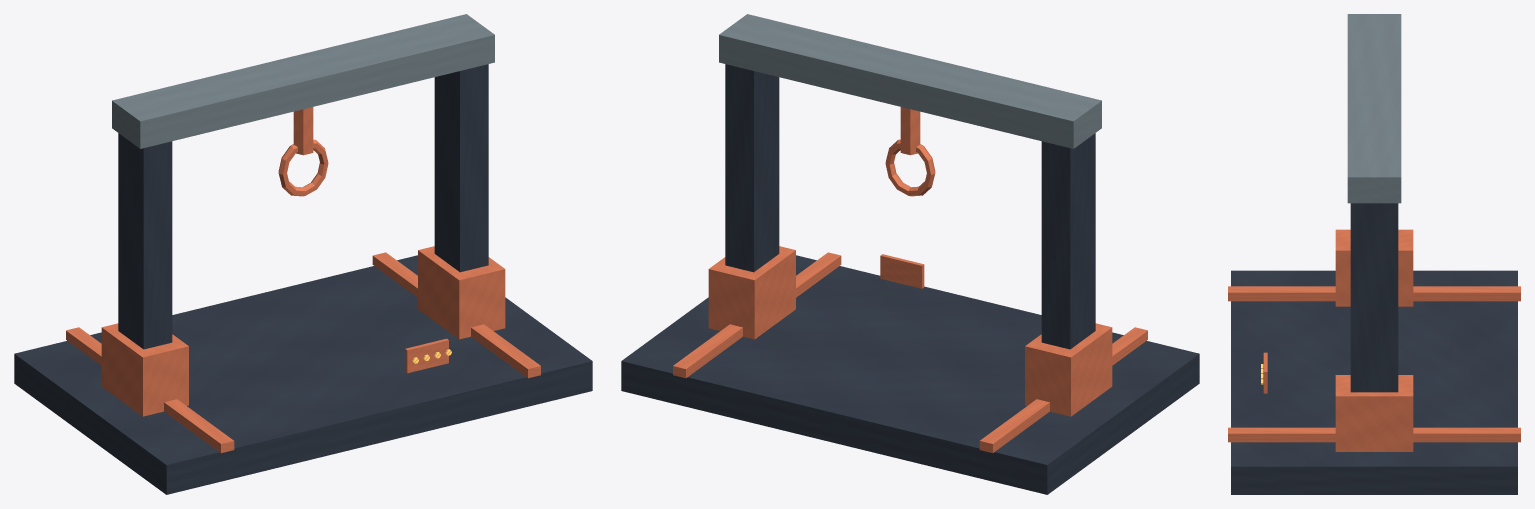
Rendered from atlas100-s027-a06.glb.
The picture shows the model from 3 angles, left to right: view 1: azimuth 30°, elevation 25°; view 2: azimuth 150°, elevation 25°; view 3: azimuth 270°, elevation 25°; orthographic projection. The views are drawn at different scales.
Visible parts, largest first — view 1: atlas100-s027-a06:part-000, atlas100-s027-a06:part-007, atlas100-s027-a06:part-003, atlas100-s027-a06:part-005, atlas100-s027-a06:part-006, atlas100-s027-a06:part-004, atlas100-s027-a06:part-002, atlas100-s027-a06:part-001, atlas100-s027-a06:part-009, atlas100-s027-a06:part-010, atlas100-s027-a06:part-008; view 2: atlas100-s027-a06:part-000, atlas100-s027-a06:part-007, atlas100-s027-a06:part-003, atlas100-s027-a06:part-005, atlas100-s027-a06:part-006, atlas100-s027-a06:part-004, atlas100-s027-a06:part-002, atlas100-s027-a06:part-001, atlas100-s027-a06:part-009, atlas100-s027-a06:part-010, atlas100-s027-a06:part-008; view 3: atlas100-s027-a06:part-000, atlas100-s027-a06:part-007, atlas100-s027-a06:part-005, atlas100-s027-a06:part-006, atlas100-s027-a06:part-001, atlas100-s027-a06:part-002, atlas100-s027-a06:part-004.
Part boxes in pixels (x1=…): atlas100-s027-a06:part-000: x1=14, y1=255, x2=592, y2=494; atlas100-s027-a06:part-007: x1=112, y1=14, x2=494, y2=148; atlas100-s027-a06:part-003: x1=118, y1=133, x2=172, y2=349; atlas100-s027-a06:part-005: x1=434, y1=64, x2=488, y2=272; atlas100-s027-a06:part-006: x1=418, y1=246, x2=505, y2=339; atlas100-s027-a06:part-004: x1=101, y1=323, x2=188, y2=416; atlas100-s027-a06:part-002: x1=372, y1=252, x2=540, y2=378; atlas100-s027-a06:part-001: x1=66, y1=327, x2=234, y2=453; atlas100-s027-a06:part-009: x1=278, y1=139, x2=328, y2=196; atlas100-s027-a06:part-010: x1=405, y1=338, x2=448, y2=373; atlas100-s027-a06:part-008: x1=293, y1=107, x2=313, y2=155; atlas100-s027-a06:part-000: x1=621, y1=255, x2=1199, y2=494; atlas100-s027-a06:part-007: x1=719, y1=14, x2=1101, y2=148; atlas100-s027-a06:part-003: x1=1041, y1=133, x2=1095, y2=349; atlas100-s027-a06:part-005: x1=725, y1=64, x2=779, y2=272; atlas100-s027-a06:part-006: x1=708, y1=246, x2=795, y2=339; atlas100-s027-a06:part-004: x1=1025, y1=323, x2=1112, y2=416; atlas100-s027-a06:part-002: x1=673, y1=252, x2=841, y2=378; atlas100-s027-a06:part-001: x1=979, y1=327, x2=1147, y2=453; atlas100-s027-a06:part-009: x1=885, y1=139, x2=935, y2=196; atlas100-s027-a06:part-010: x1=880, y1=254, x2=924, y2=288; atlas100-s027-a06:part-008: x1=900, y1=107, x2=920, y2=155; atlas100-s027-a06:part-000: x1=1231, y1=270, x2=1517, y2=494; atlas100-s027-a06:part-007: x1=1347, y1=14, x2=1401, y2=203; atlas100-s027-a06:part-005: x1=1350, y1=203, x2=1398, y2=392; atlas100-s027-a06:part-006: x1=1335, y1=375, x2=1413, y2=451; atlas100-s027-a06:part-001: x1=1228, y1=286, x2=1520, y2=301; atlas100-s027-a06:part-002: x1=1228, y1=427, x2=1520, y2=442; atlas100-s027-a06:part-004: x1=1335, y1=229, x2=1413, y2=306.
Bounding box in the file's own units: 3.88 × 2.78 × 2.45.
4 materials, 4 textured.
